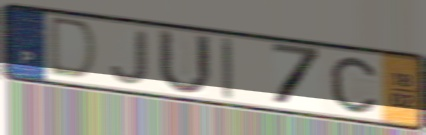7: (269, 40, 324, 111)
C: (327, 55, 379, 116)
D: (46, 14, 102, 84)
I: (219, 36, 235, 103)
J: (108, 29, 151, 87)
U: (156, 26, 216, 98)
